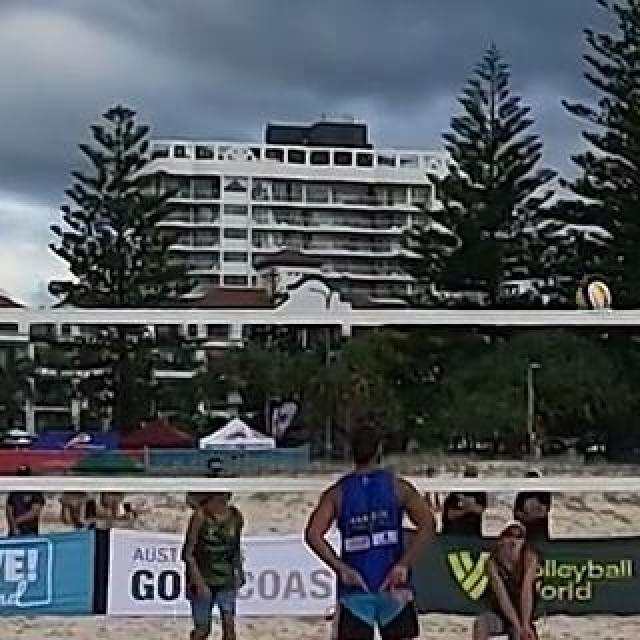volleyball: (576, 280, 612, 310)
